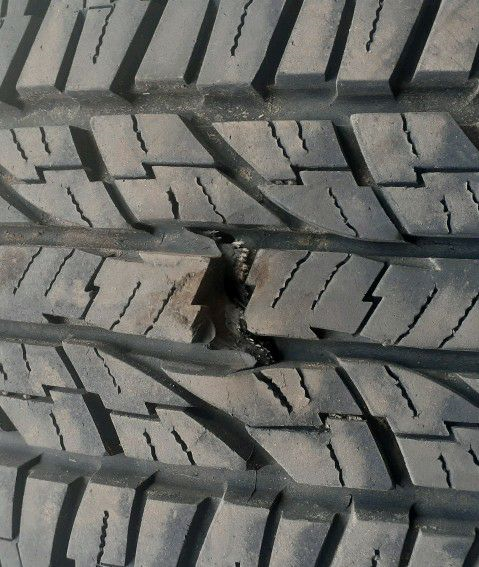tr: (177, 221, 286, 369)
